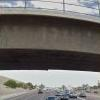Bridge: (2, 3, 95, 84)
